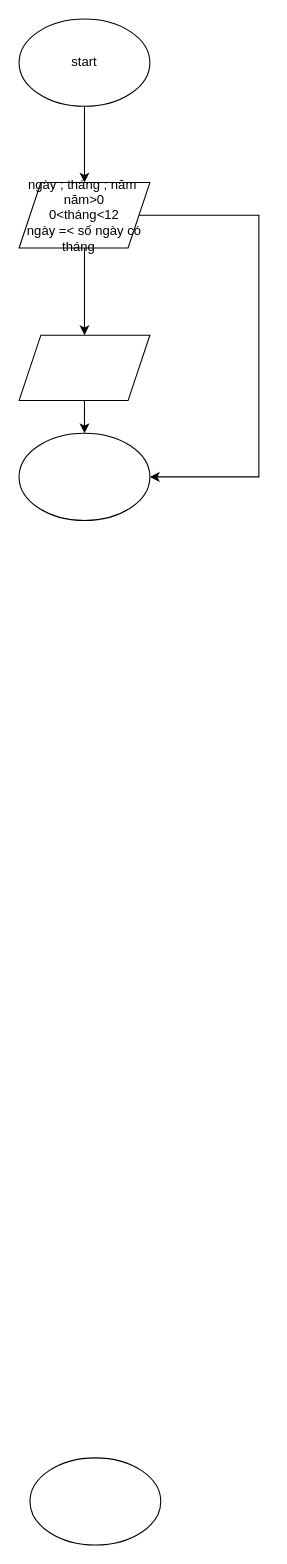
The diagram is 287 pixels wide and 1564 high, and some of its shapes have lost their labels. The shapes that lost their labels are listed below. From the top down, each one's centre as x and y in pixels, then its label:
At point (84, 367): "ngày tháng".
At point (84, 476): "end".
